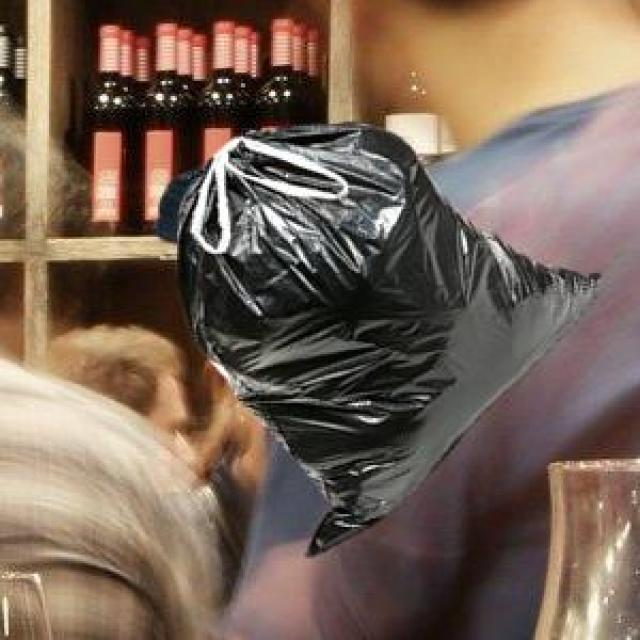waste: (178, 125, 595, 551)
